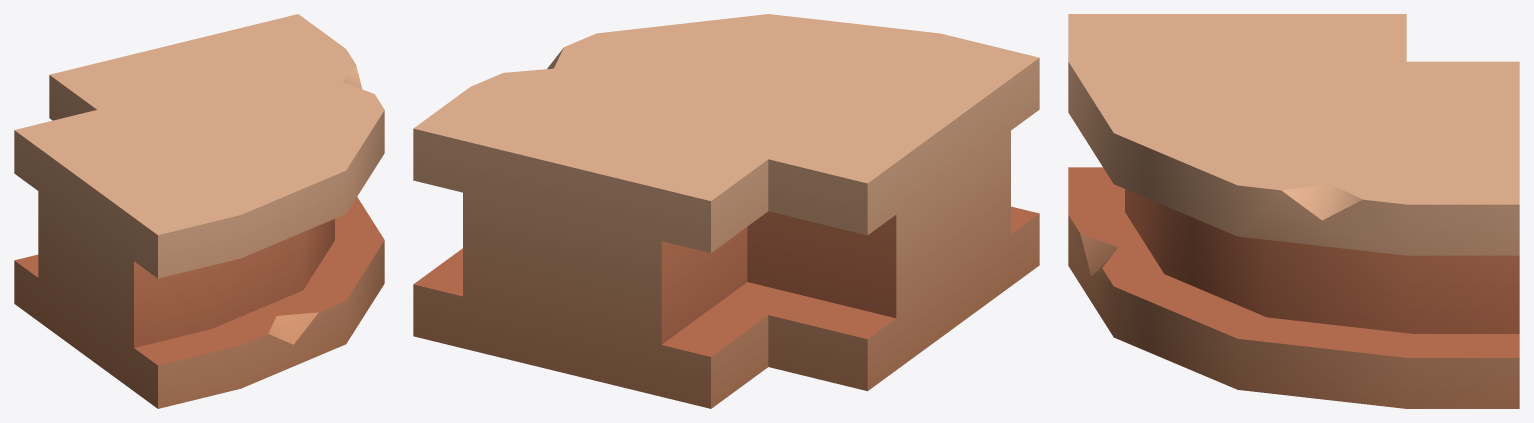
3 renders of one model, left to right at view 1: azimuth 30°, elevation 25°; view 2: azimuth 150°, elevation 25°; view 3: azimuth 270°, elevation 25°, orthographic. The views are drawn at different scales.
Visible parts, largest first — view 1: border_corner; view 2: border_corner; view 3: border_corner.
Part boxes in pixels (x1,y1,x2,y2): border_corner: [14, 14, 384, 408]; border_corner: [413, 14, 1039, 408]; border_corner: [1068, 14, 1519, 408].
Bounding box in the file's own units: 0.8 × 0.4 × 0.8.
Materials: 1 (1 with a texture image).
